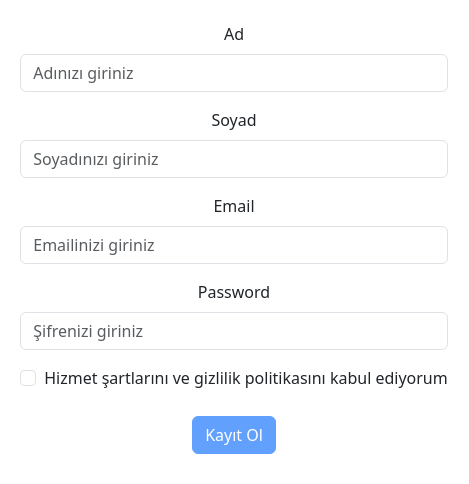
Test: Kayıt Sayfası › Olumsuz Testler › Email girişi yanlış mu?
Type "hakan@gg" into the field with test id "input-email".
click(234, 245); type("hakan@gg")  # box [20,226,448,264]
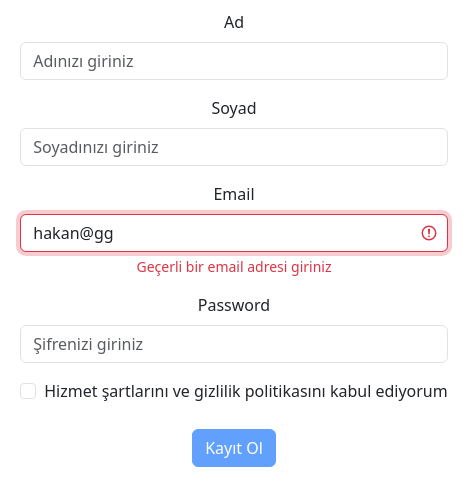
Check: the text "Geçerli bir email adresi giriniz" is shown, box [136,256,332,276]
